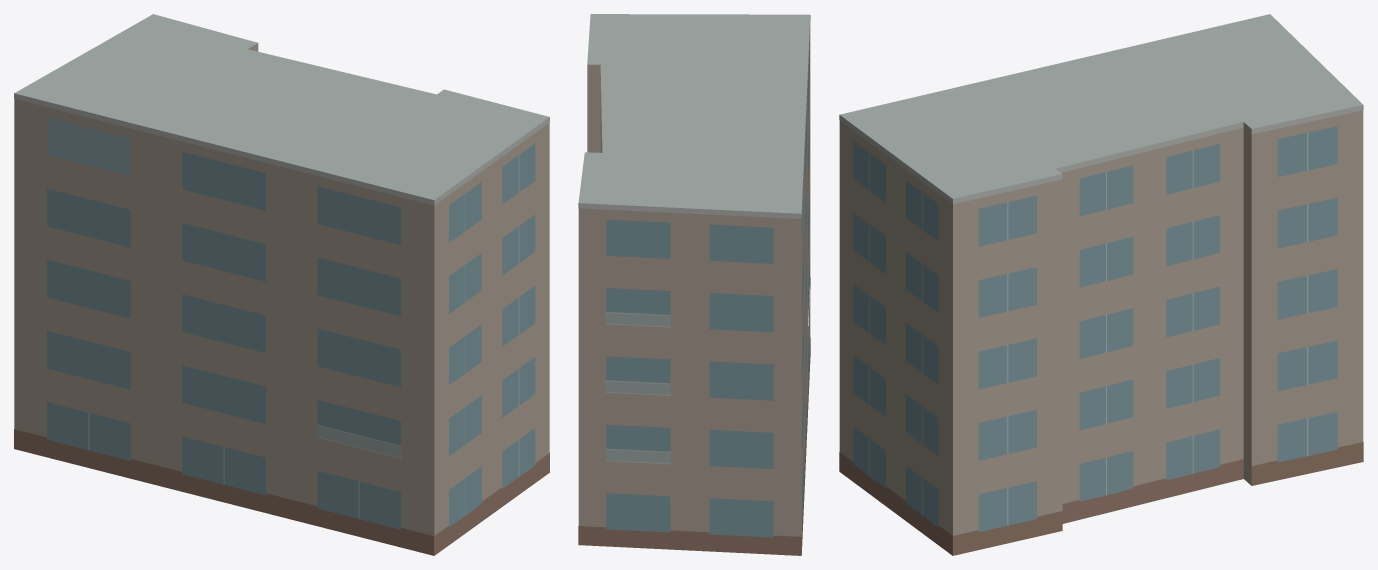
File: survey-upis-32748862.glb
3 renders of one model, left to right at view 1: azimuth 30°, elevation 25°; view 2: azimuth 150°, elevation 25°; view 3: azimuth 270°, elevation 25°, orthographic. The views are drawn at different scales.
Visible parts, largest first — view 1: survey-upis-32748862.tmp; view 2: survey-upis-32748862.tmp; view 3: survey-upis-32748862.tmp.
Part boxes in pixels (x1=…): survey-upis-32748862.tmp: x1=14, y1=14, x2=549, y2=555; survey-upis-32748862.tmp: x1=578, y1=14, x2=810, y2=555; survey-upis-32748862.tmp: x1=839, y1=14, x2=1363, y2=555.
Bounding box in the file's own units: 17.73 × 15.95 × 21.23.
